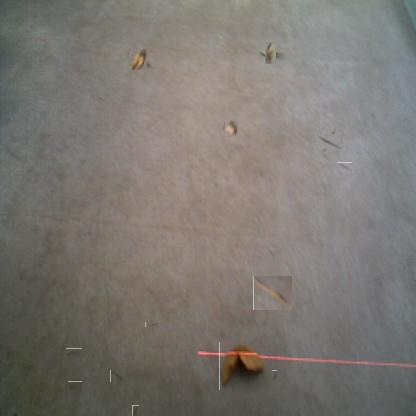dirty: (219, 342, 264, 390), (253, 276, 292, 310), (128, 50, 148, 70), (262, 44, 278, 62), (223, 121, 237, 136)
mark: (319, 130, 341, 152), (338, 161, 351, 175), (69, 380, 82, 393), (110, 370, 123, 382), (66, 348, 82, 357), (147, 320, 157, 329), (271, 370, 277, 383), (132, 405, 139, 416)
